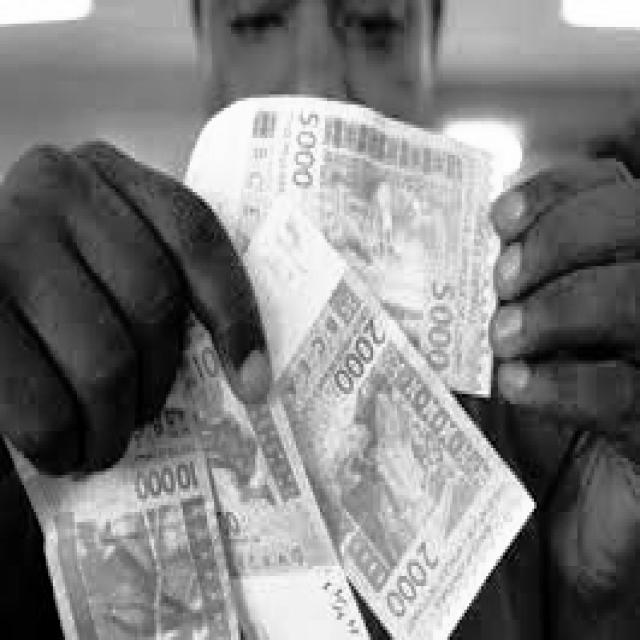junni: (186, 96, 499, 393)
niaar junni: (11, 418, 238, 637)
niaar teemeer: (186, 322, 368, 639)
nient teemeer: (245, 199, 530, 637)
